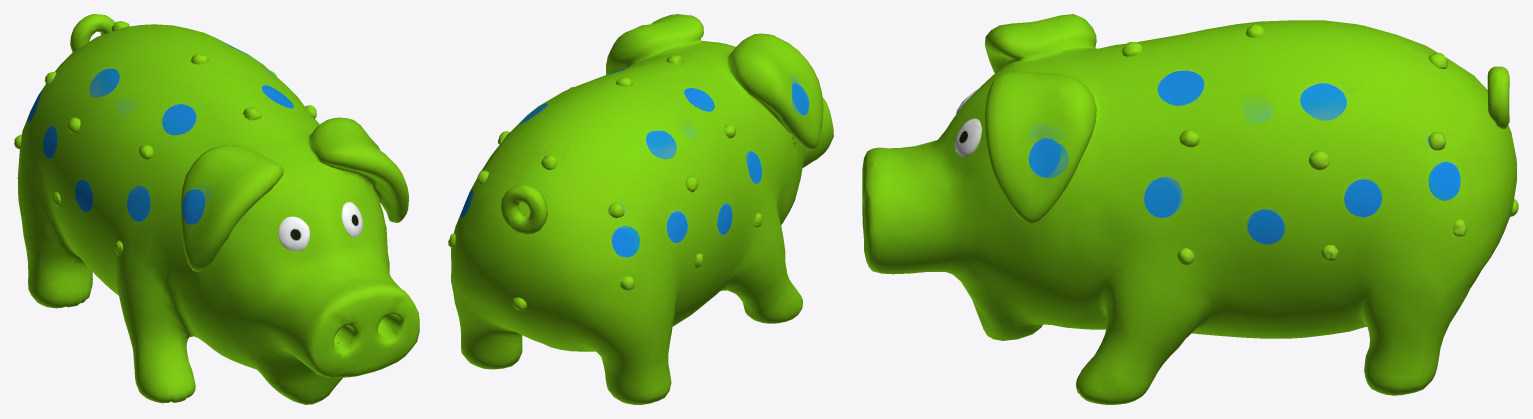
File: Meshy_AI_Polka_Dot_Piggy_20261125_texture.glb
3 renders of one model, left to right at view 1: azimuth 30°, elevation 25°; view 2: azimuth 150°, elevation 25°; view 3: azimuth 270°, elevation 25°, orthographic. The views are drawn at different scales.
Size of the model in its own units: 0.4722 by 0.5063 by 0.9531.
1 material, 1 textured.
